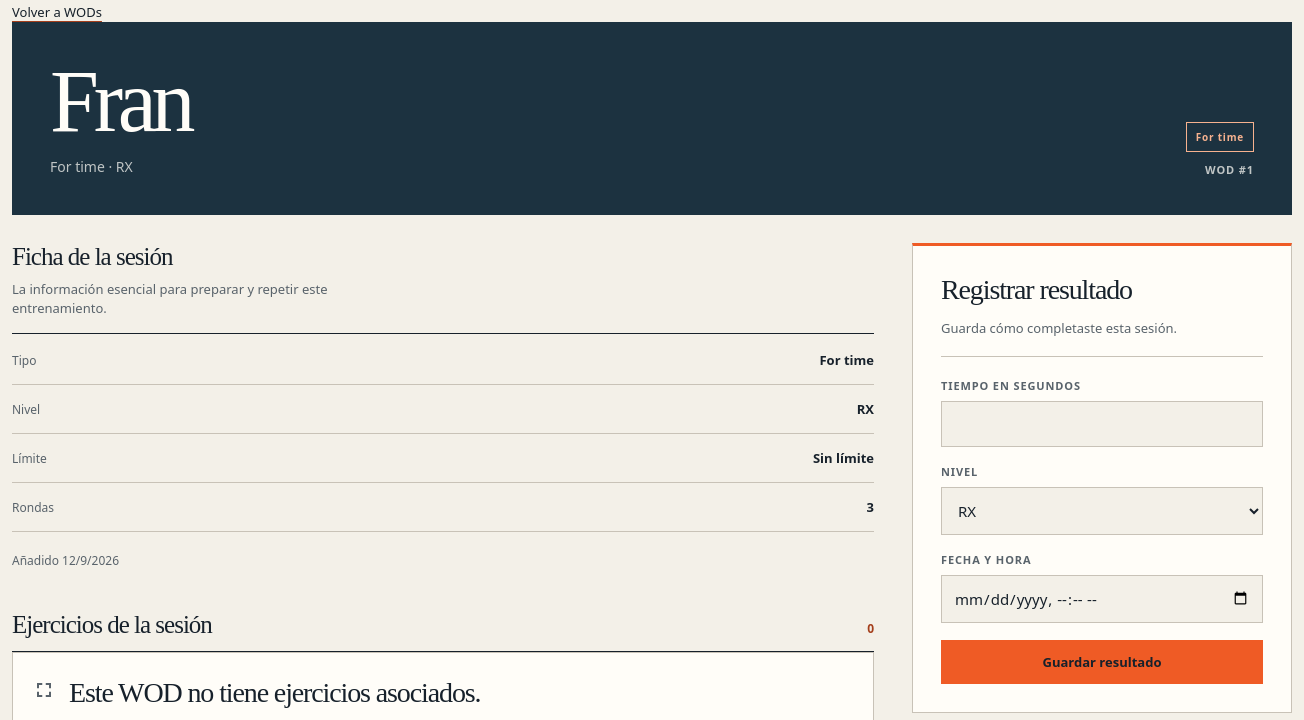
Test: WodDetailPage › shows accessible feedback after saving a result
expect the heading "Fran" is shown: met, box top-left (50, 60), bottom-right (190, 144)
In the number field labelled "Tiempo en segundos": point(1102, 424) top-left (941, 401), bottom-right (1263, 447), type "60"
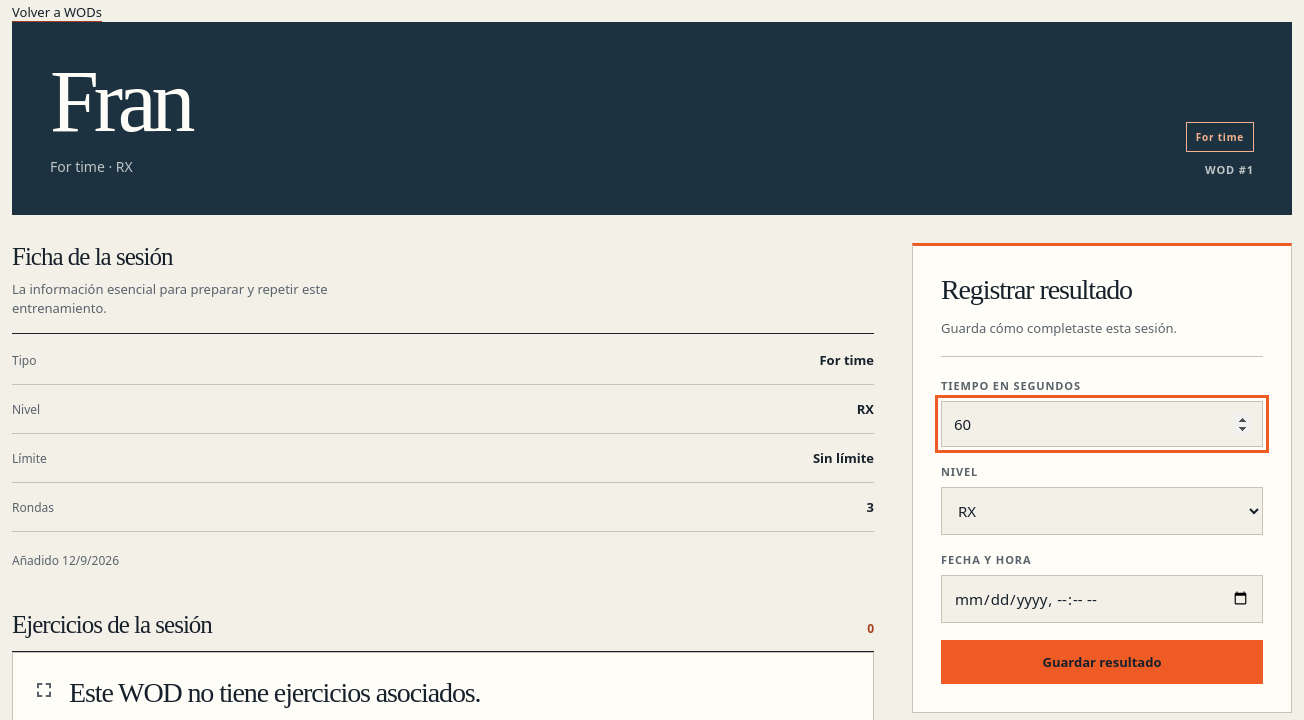
Click the button "Guardar resultado": point(1102, 662) top-left (941, 640), bottom-right (1263, 684)
(page scrolled)
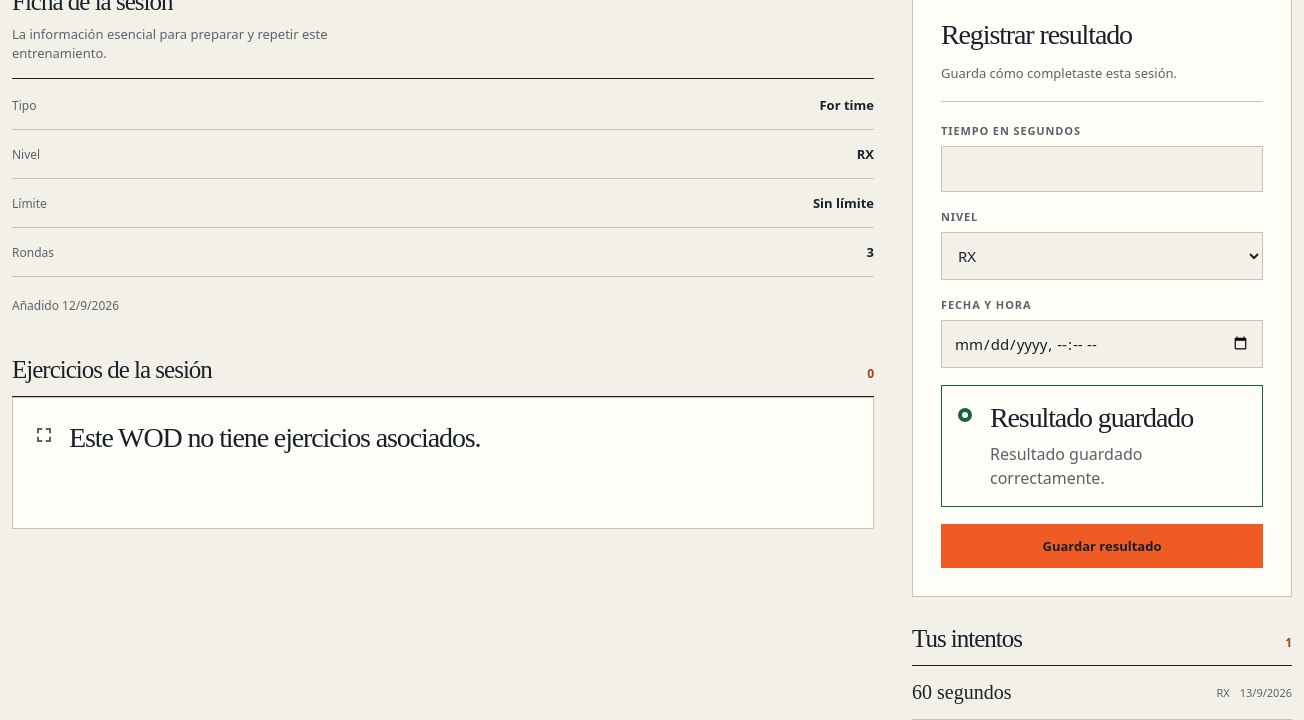
expect the message "Resultado guardado" is shown: met, box top-left (941, 385), bottom-right (1263, 507)
expect the text "Resultado guardado correctamente." is shown: met, box top-left (990, 443), bottom-right (1142, 489)
